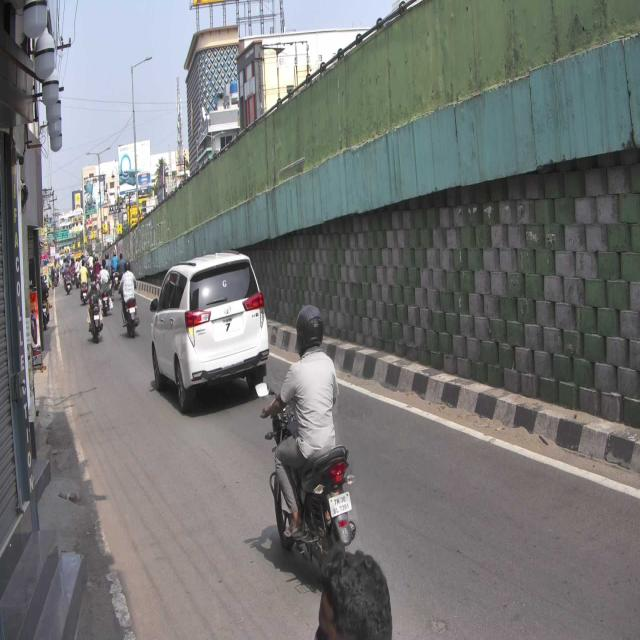single_rider: (256, 301, 351, 575)
